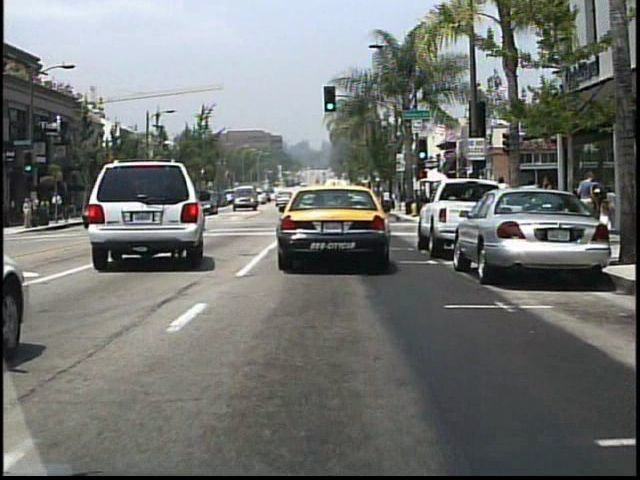person: (539, 175, 560, 237), (578, 171, 598, 233), (598, 197, 614, 241), (23, 195, 35, 231), (52, 190, 64, 222)
